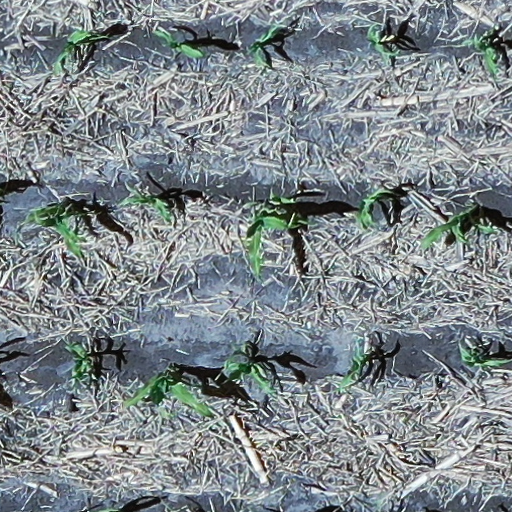planta: (245, 204, 310, 276), (124, 373, 213, 417), (27, 202, 82, 257), (52, 29, 113, 73), (421, 204, 478, 248), (244, 24, 286, 70), (224, 358, 274, 394), (151, 27, 204, 58), (461, 33, 498, 75), (124, 193, 172, 221), (368, 21, 402, 58), (336, 350, 367, 390), (354, 189, 384, 227), (66, 343, 91, 381)
